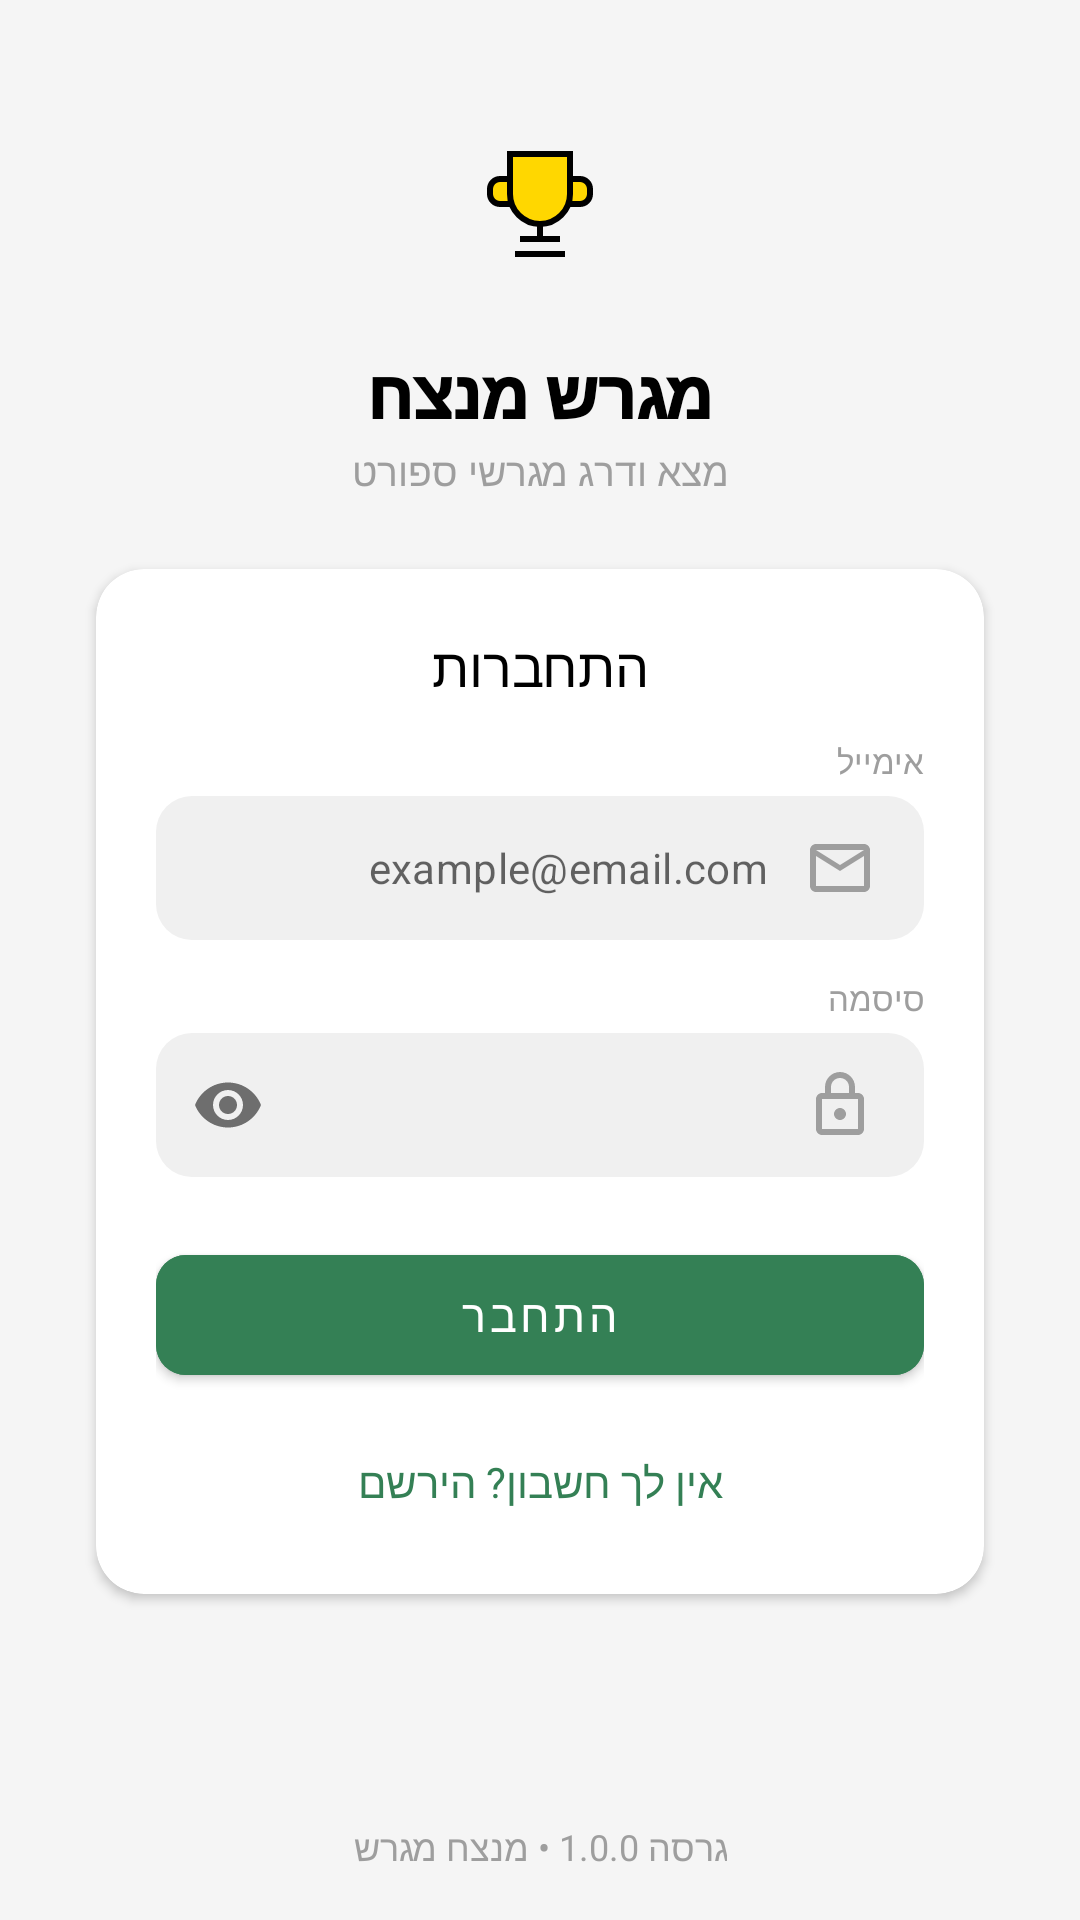

Icon click points for this 1080px x 1920px phone screenshot, format [x,y]:
trophy: [540,204]
